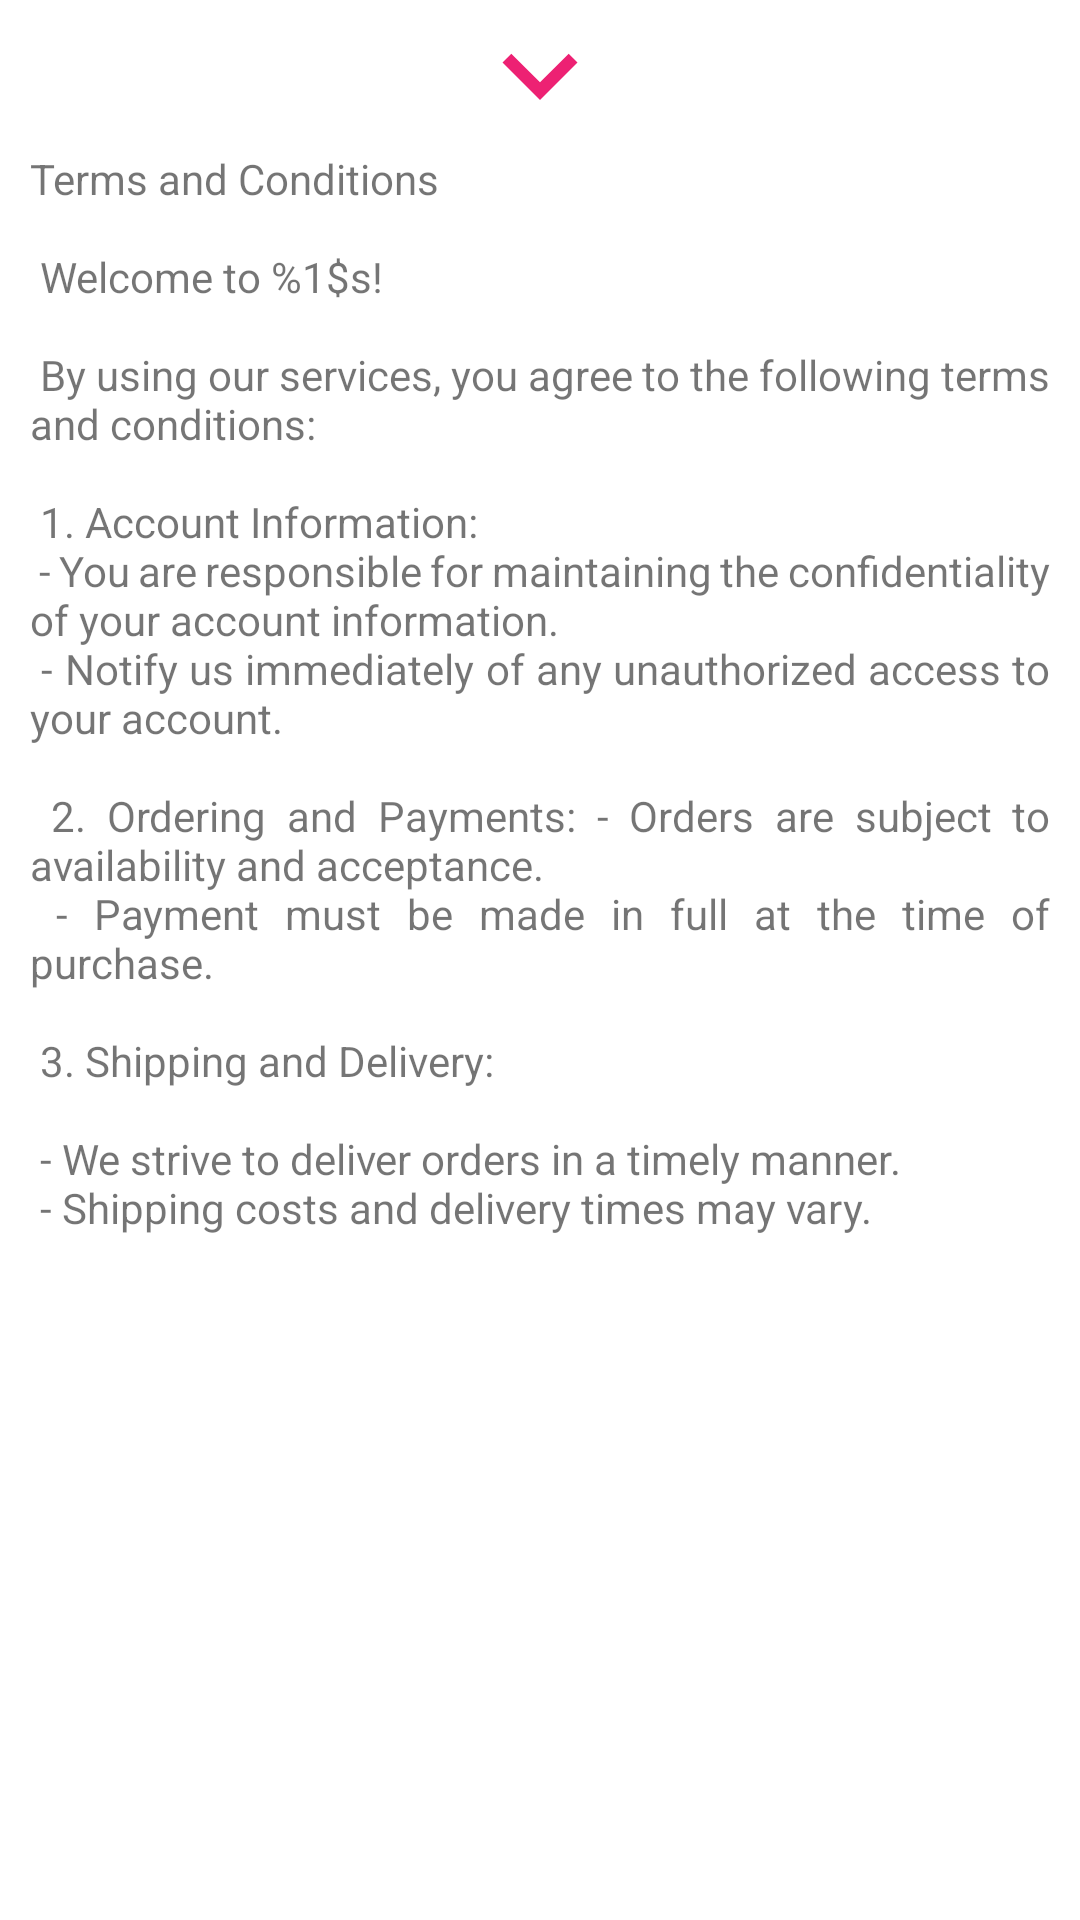

Screen size 1080px×1920px. Icon name, then its box in pixels as bbox=[x1, y1, x2, y2]:
keyboard arrow down: bbox=[502, 54, 578, 100]
